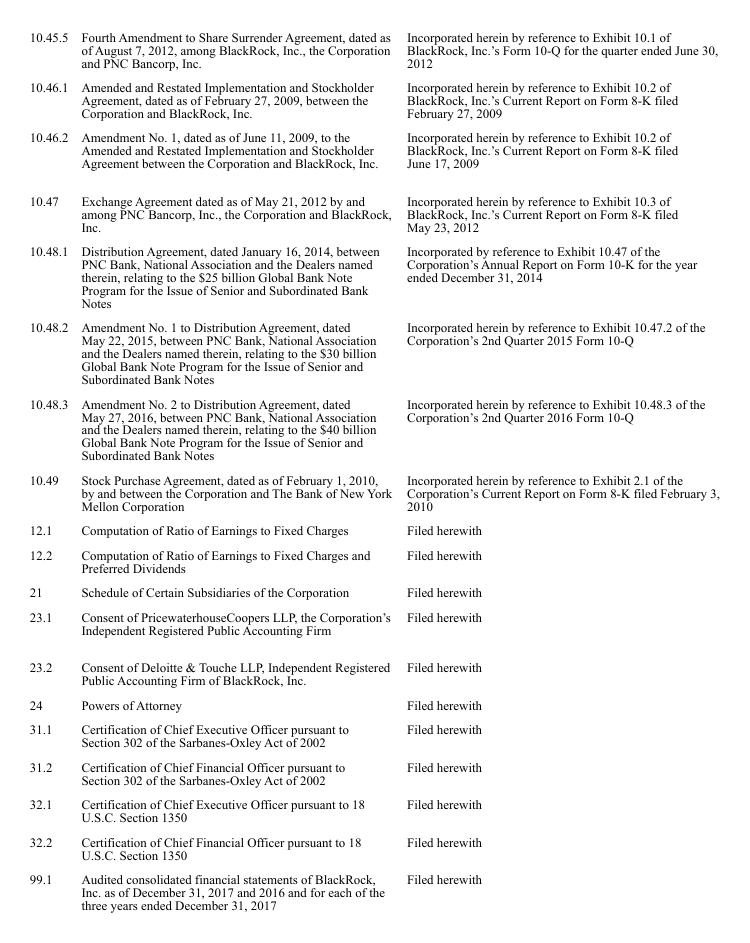table: (28, 29, 718, 911)
table column: (73, 29, 398, 911), (398, 29, 718, 911), (28, 29, 73, 911)
table column header: (28, 29, 718, 74)
table row: (28, 314, 718, 391), (28, 238, 718, 314), (28, 391, 718, 467), (28, 124, 718, 181), (28, 181, 718, 238), (28, 74, 718, 124), (28, 467, 718, 517), (28, 29, 718, 74), (28, 866, 718, 911), (28, 604, 718, 648), (28, 648, 718, 692), (28, 716, 718, 754), (28, 828, 718, 866), (28, 542, 718, 579), (28, 754, 718, 791), (28, 791, 718, 828), (28, 517, 718, 542), (28, 579, 718, 604), (28, 692, 718, 716)
